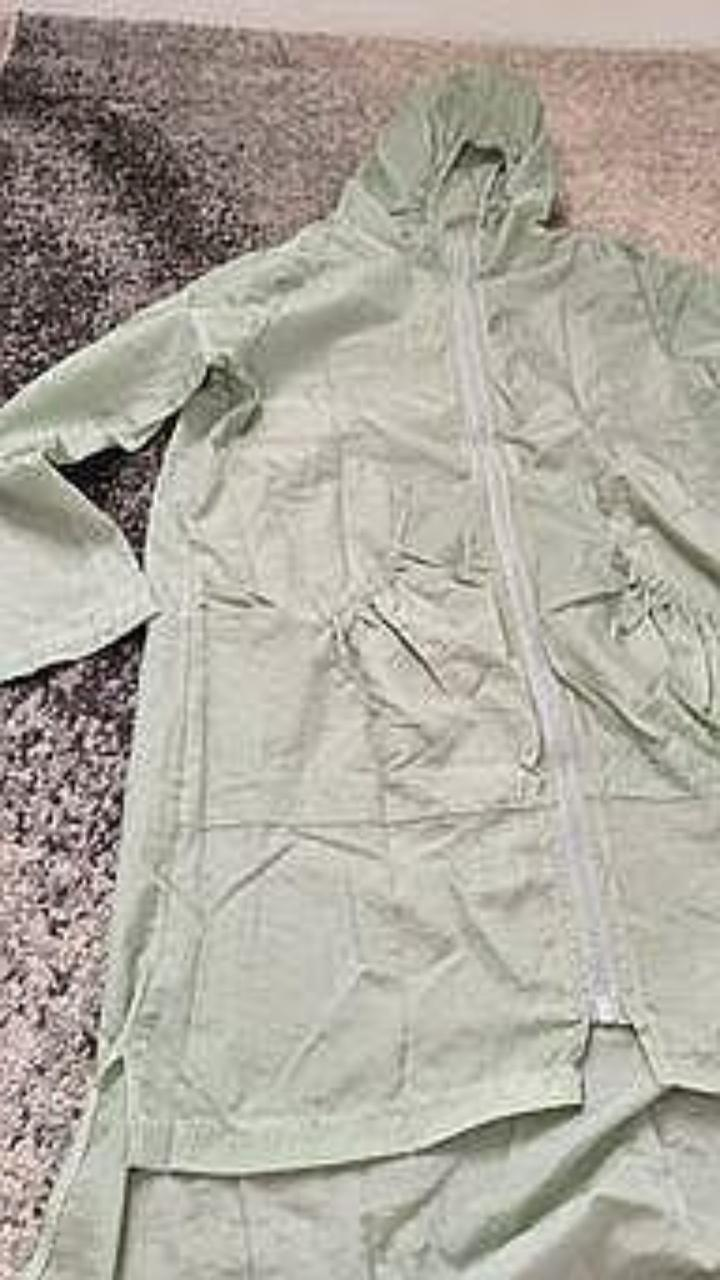Shorts: (102, 1026, 719, 1279)
Sports_Jacket: (0, 62, 719, 1279)
